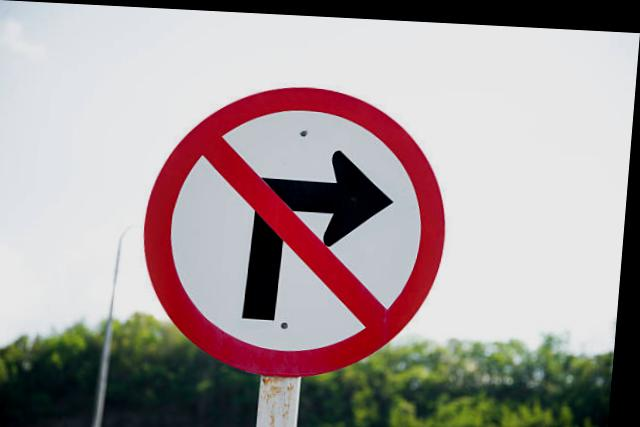not_turn_right: (139, 72, 459, 383)
